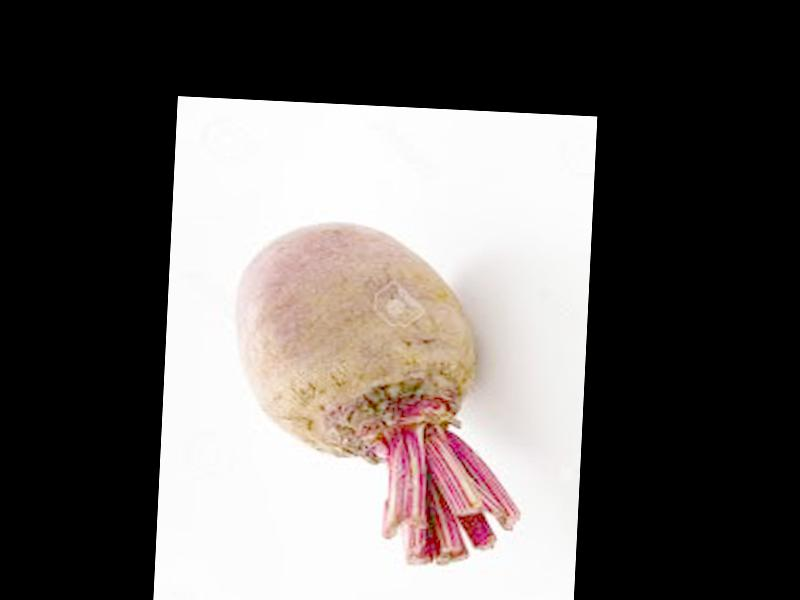Beet: (222, 216, 536, 569)
